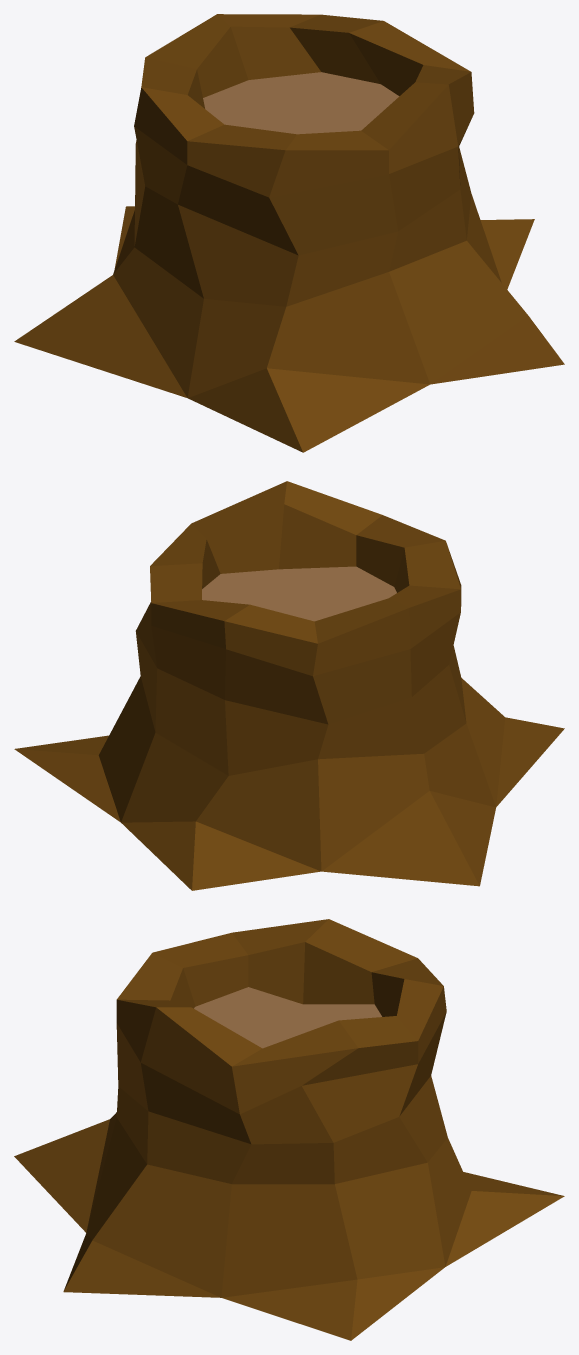
Rendered from stump.fbx.
The picture shows the model from 3 angles, top to bottom: view 1: azimuth 30°, elevation 25°; view 2: azimuth 150°, elevation 25°; view 3: azimuth 270°, elevation 25°; orthographic projection. The views are drawn at different scales.
Visible parts, largest first — view 1: Cylinder; view 2: Cylinder; view 3: Cylinder.
Part boxes in pixels (box(x1,y1,x2,y2)): Cylinder: box(14, 14, 564, 452); Cylinder: box(14, 481, 564, 890); Cylinder: box(14, 919, 564, 1340).
Size of the model in its own units: 225 by 115 by 220.
